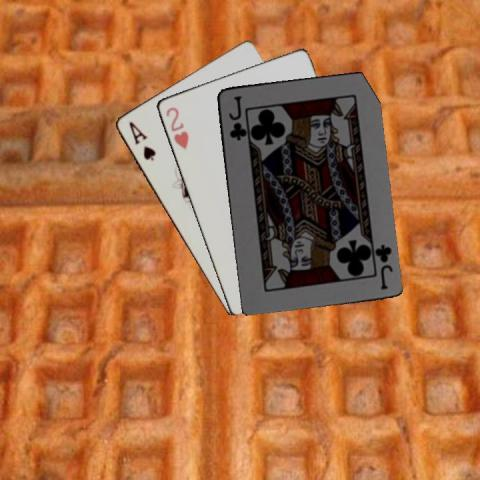2h: (163, 103, 190, 151)
As: (125, 118, 157, 163)
Jc: (371, 241, 394, 291), (226, 92, 246, 141)
